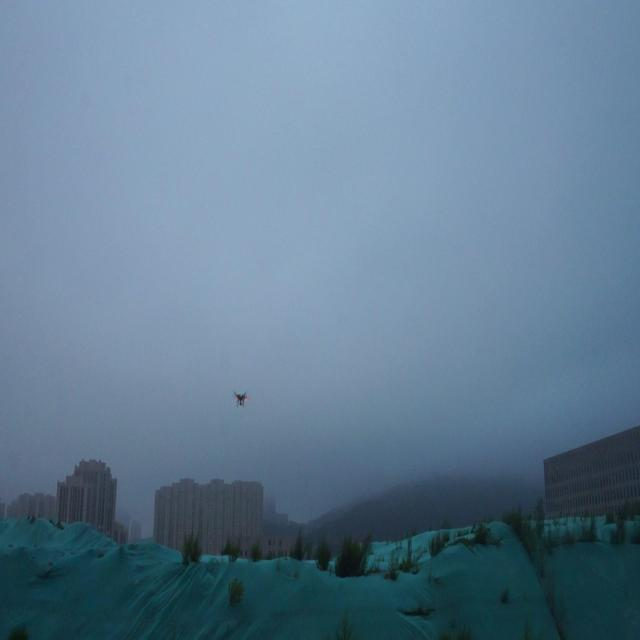drone: (231, 387, 252, 410)
